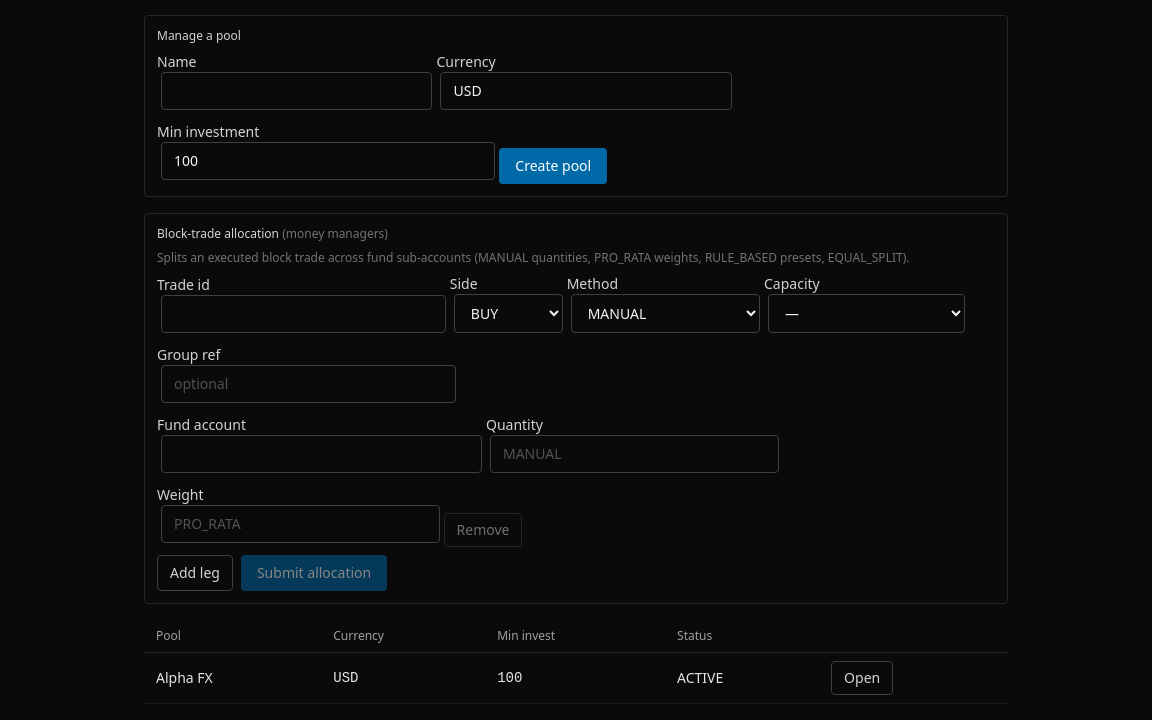
Scenario: PammPage › lists pools and opens detail with statement
(page scrolled)
Expected: the text "Alpha FX" is shown, [144, 652, 321, 704]
Click the button "Open": point(862, 678) [831, 661, 893, 695]
(page scrolled)
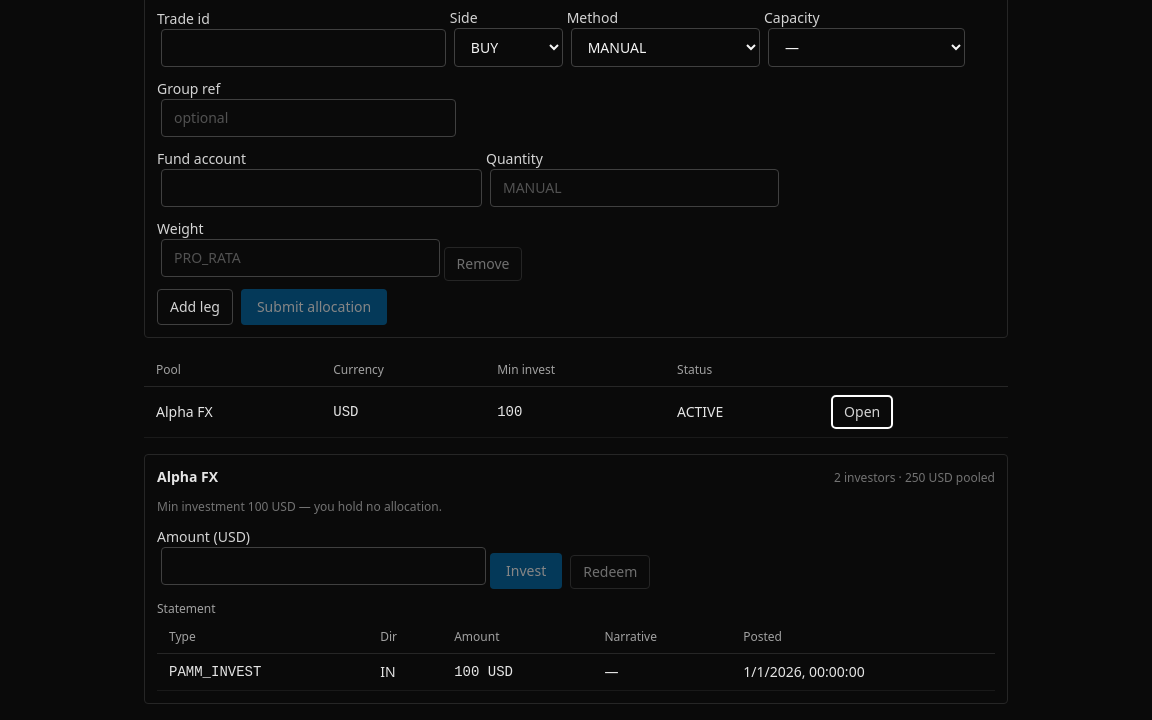
Result: the text "2 investors · 250 USD pooled" is shown at [834, 470, 995, 486]
Result: the text "PAMM_INVEST" is shown at [157, 654, 368, 690]
